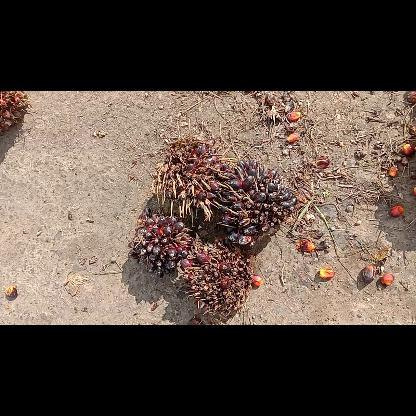TBS abnormal: (218, 160, 296, 247), (153, 137, 235, 219), (180, 242, 252, 316), (128, 208, 192, 276)
